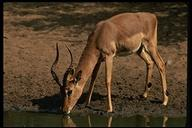antelope: (49, 11, 171, 117)
water: (5, 116, 181, 125)
